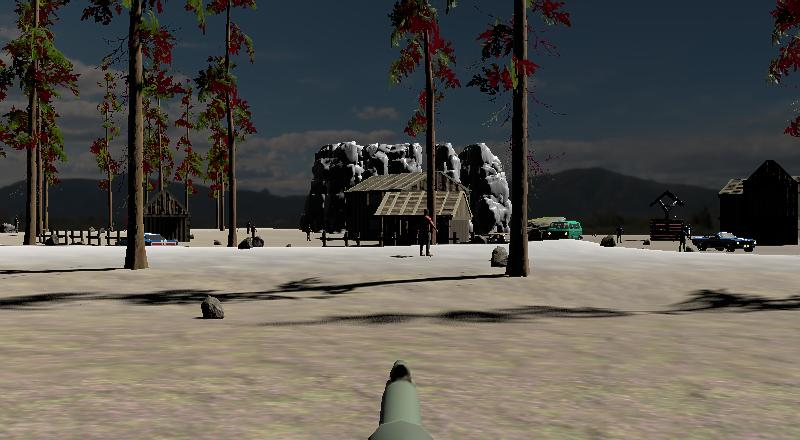Human: (414, 208, 440, 260)
car: (689, 230, 758, 255), (545, 217, 585, 243), (141, 230, 180, 249)
